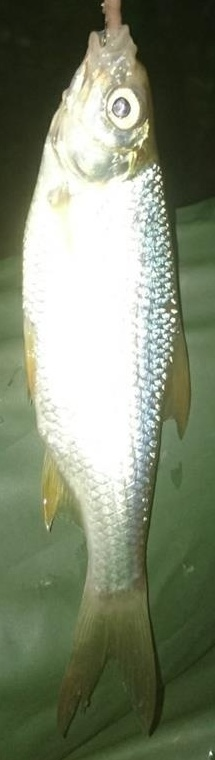Scardinius erythrophthalmus: (20, 20, 195, 740)
